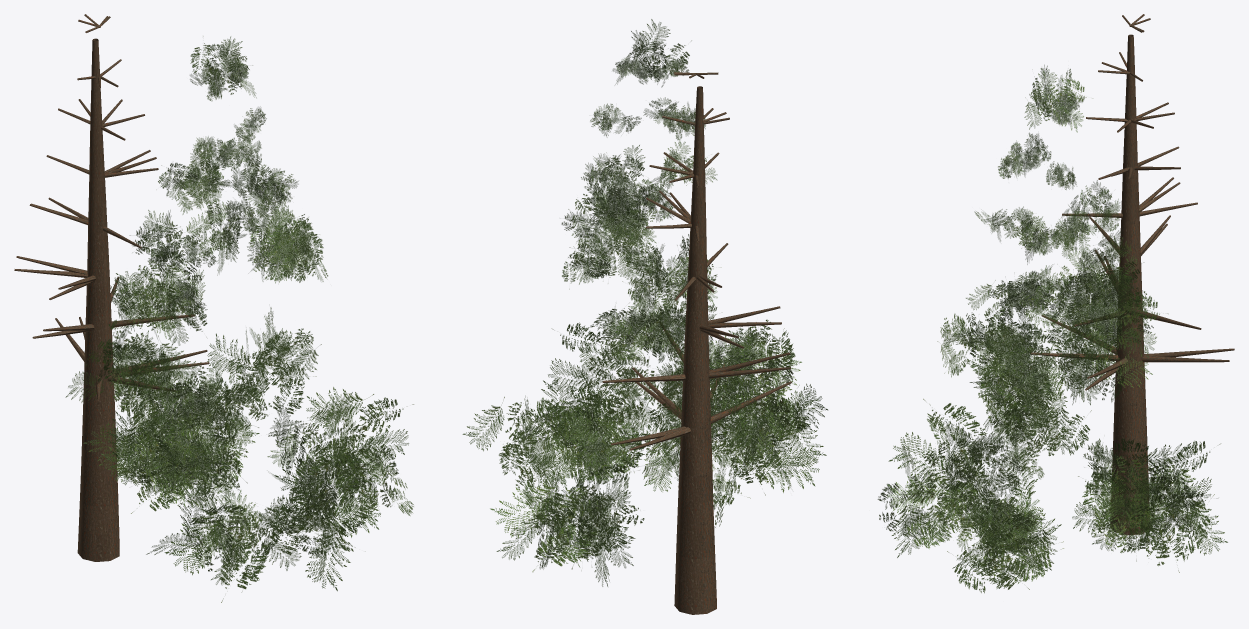
Rendered from pine_4.glb.
3 views of the same model, side by side, from view 1: azimuth 30°, elevation 25°; view 2: azimuth 150°, elevation 25°; view 3: azimuth 270°, elevation 25° (orthographic). The views are drawn at different scales.
Parts seen in each view (by area): view 1: pine; view 2: pine; view 3: pine.
Boxes of the visible parts, x1,y1,x2,y2 form: pine: (14, 14, 413, 602); pine: (462, 19, 828, 614); pine: (877, 14, 1234, 593).
Bounding box in the file's own units: 6.12 × 9.28 × 6.18.
Materials: 2 (2 with a texture image).
